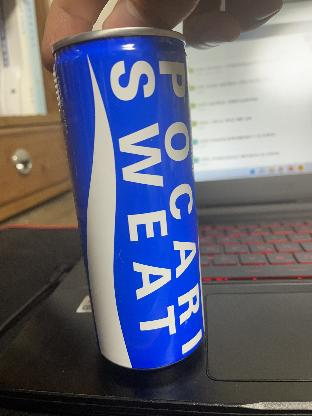Can: (53, 23, 205, 372)
